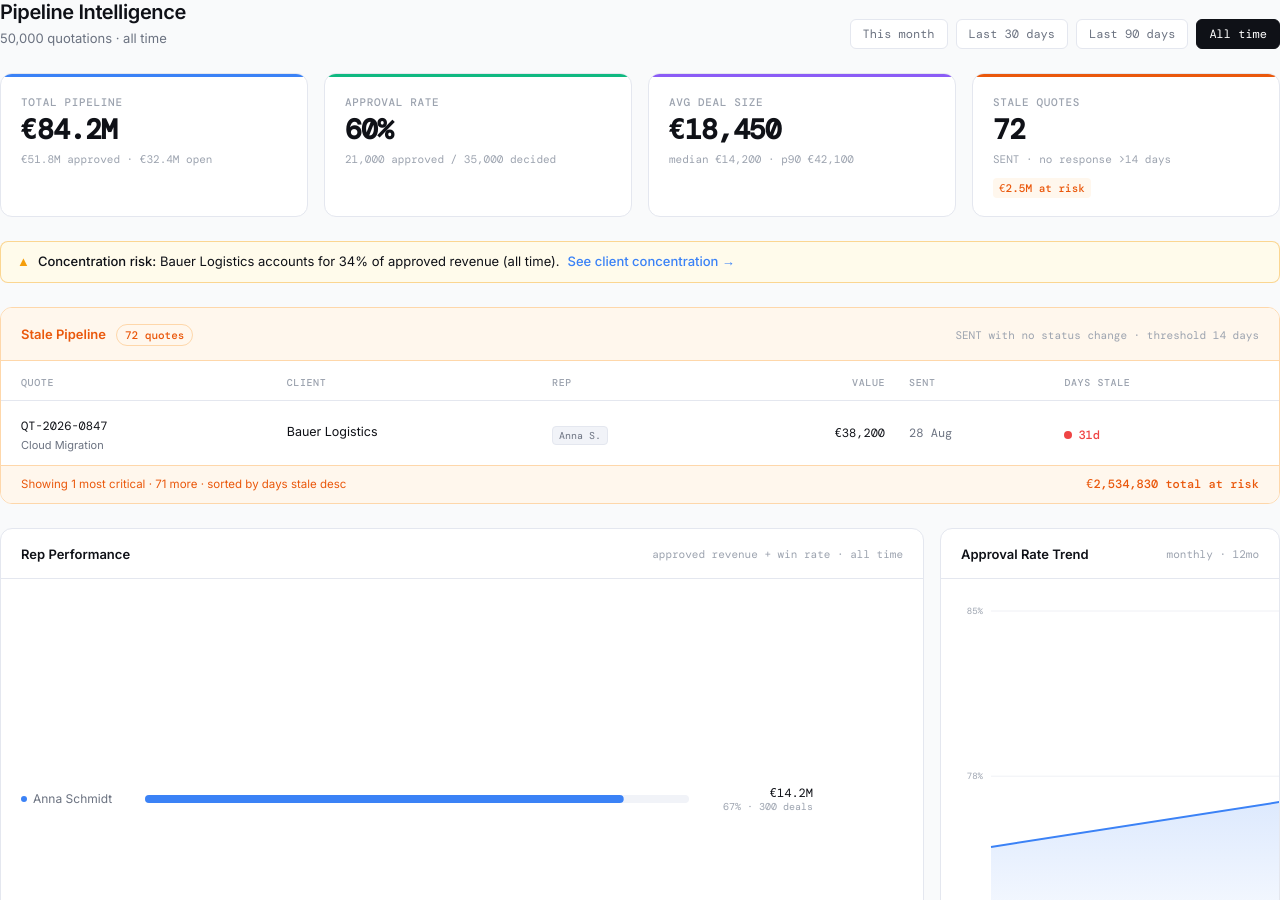
Test: DashboardPage › refetches range-driven panels when the period changes
The width and height of the screenshot is (1280, 900).
Expected: the text "€84.2M" is shown, x1=21 y1=111 x2=117 y2=148
Click the button "Last 30 days". click: (1012, 34)
box: x1=956 y1=18 x2=1068 y2=48
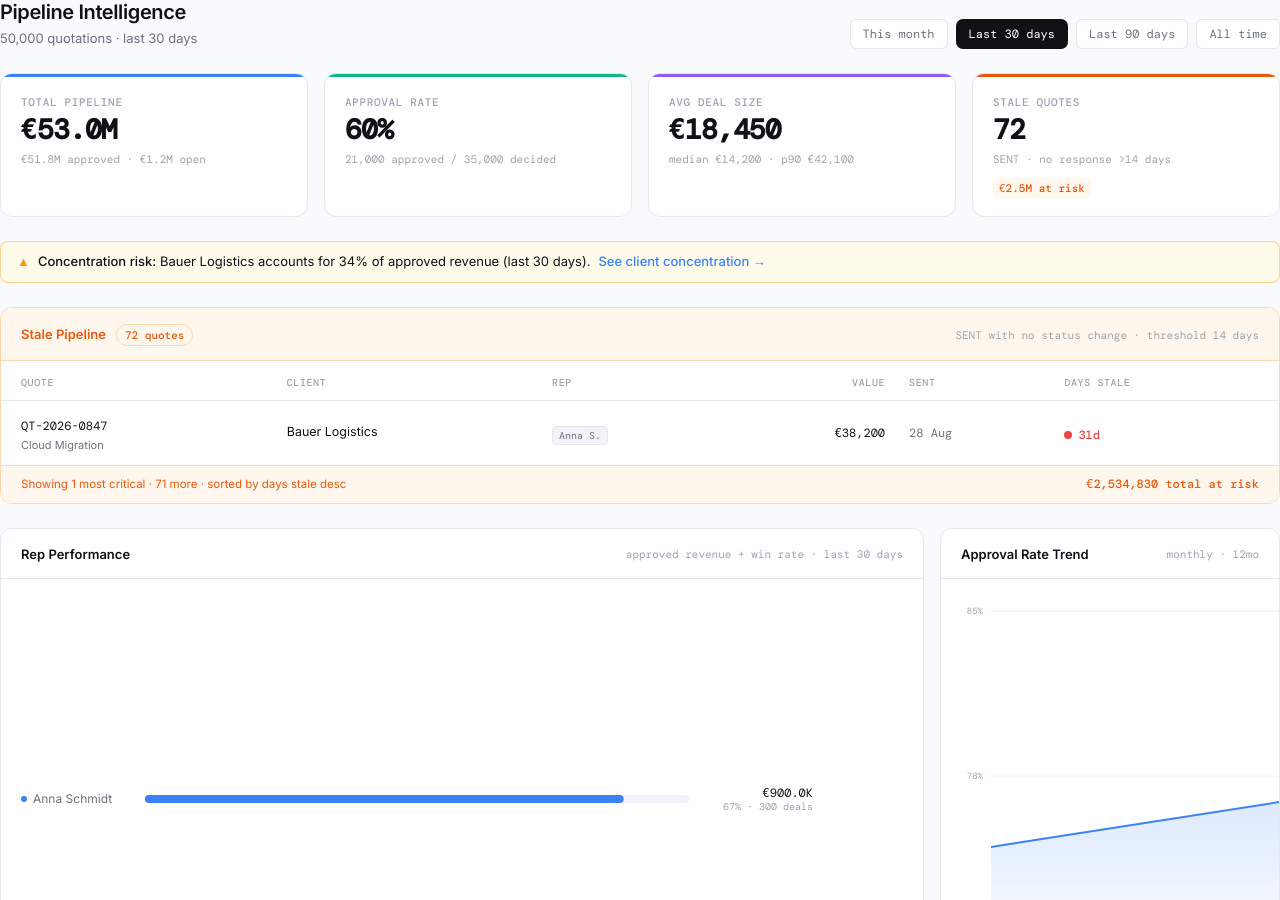
Expected: the text "50,000 quotations · last 30 days" is shown, x1=0 y1=29 x2=198 y2=48
Expected: the text "€53.0M" is shown, x1=21 y1=111 x2=117 y2=148
Expected: the text "approved revenue + win rate · last 30 days" is shown, x1=626 y1=546 x2=903 y2=563
